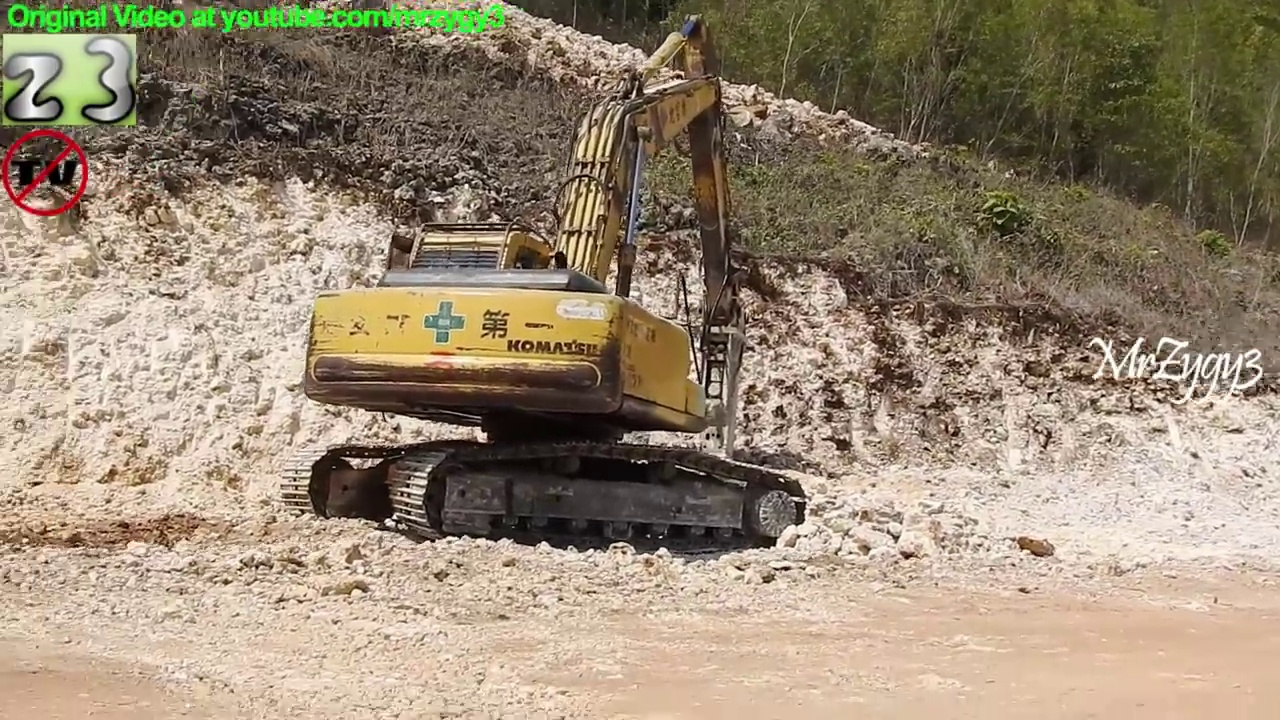excavator breaker: (272, 9, 815, 565)
